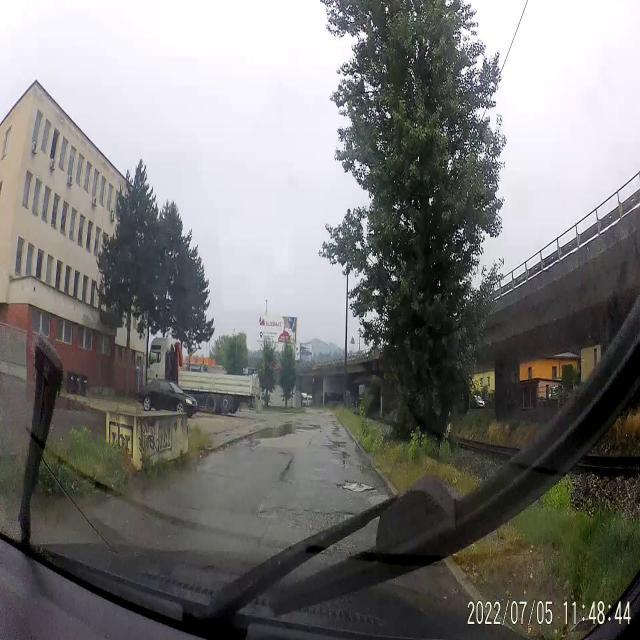Pothole: (286, 508, 354, 524), (335, 477, 380, 499), (279, 458, 296, 486), (245, 438, 262, 448), (260, 505, 270, 517), (276, 449, 288, 456)
